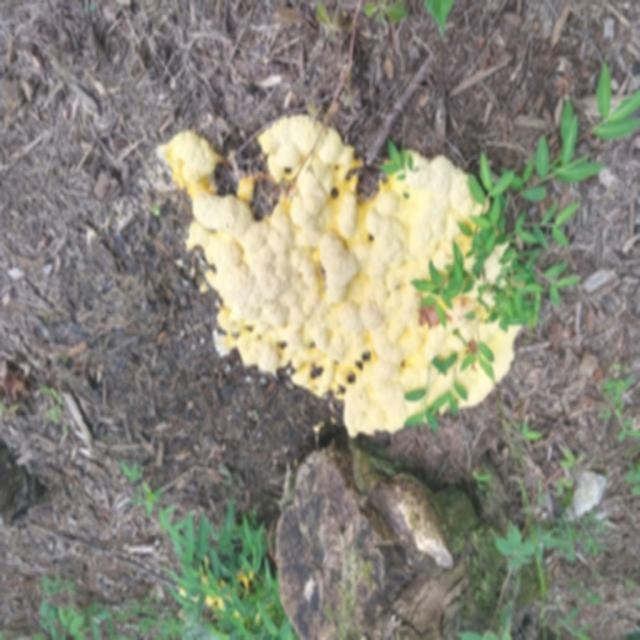Dog_vomit_slime_mold: (140, 110, 547, 447)
